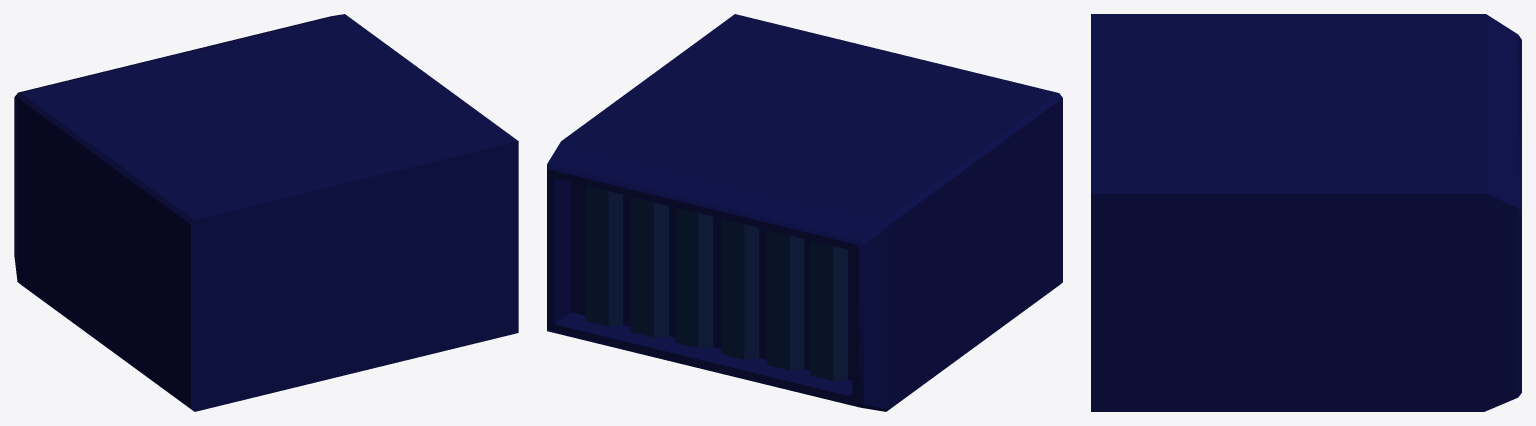
File: sm collant.fbx
The picture shows the model from 3 angles, left to right: view 1: azimuth 30°, elevation 25°; view 2: azimuth 150°, elevation 25°; view 3: azimuth 270°, elevation 25°; orthographic projection. The views are drawn at different scales.
Visible parts, largest first — view 1: PC 014; view 2: PC 014; view 3: PC 014.
Boxes of the visible parts, x1,y1,x2,y2 form: PC 014: (14, 14, 518, 411); PC 014: (547, 14, 1062, 411); PC 014: (1091, 14, 1521, 411).
Size of the model in its own units: 50 by 28 by 50.07.
